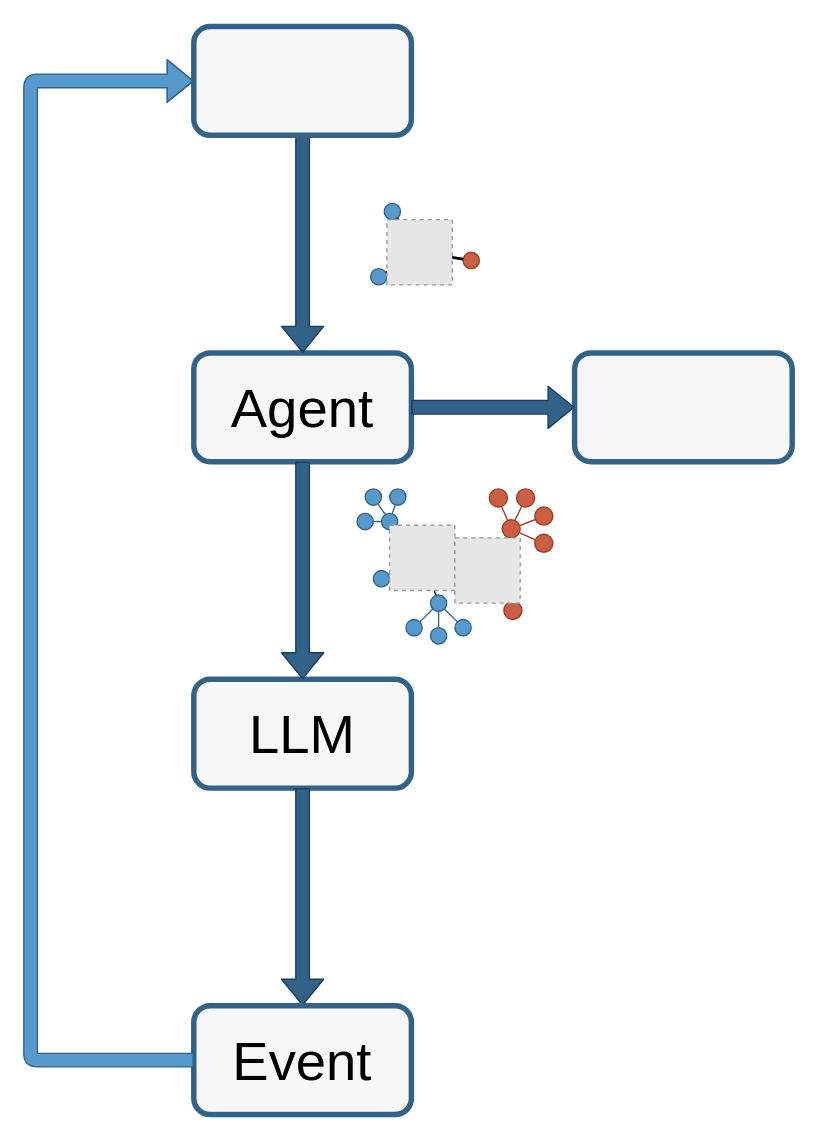
Image size: 819x1140. Some labels were removed from this diagram. Grey dashed boxes stand in for pictures. Each missing label, with the centre of its shape:
"Tools" belongs at [682,407].
"Trigger" belongs at [301,80].
